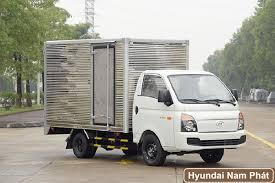hyundai: (213, 118, 226, 131)
